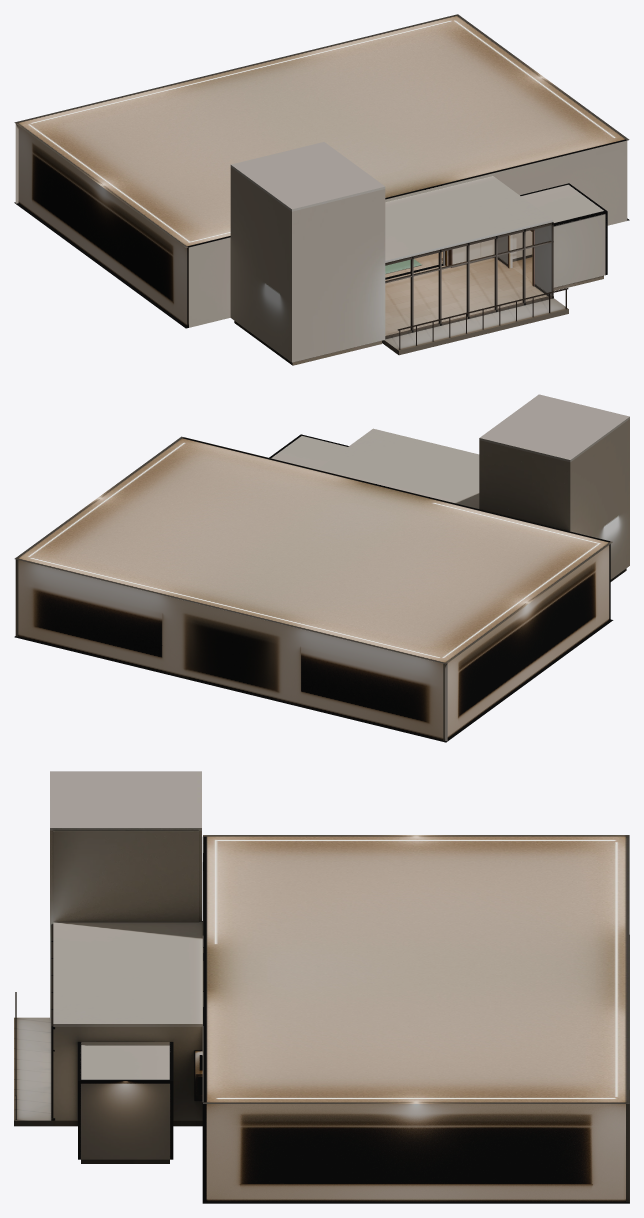
The model's file is hall-baked.glb.
3 renders of one model, top to bottom at view 1: azimuth 30°, elevation 25°; view 2: azimuth 150°, elevation 25°; view 3: azimuth 270°, elevation 25°, orthographic. The views are drawn at different scales.
Visible parts, largest first — view 1: baked-ceiling, baked-stair, baked-foyer, baked-walls, baked-floor; view 2: baked-ceiling, baked-walls, baked-stair, baked-foyer, baked-floor; view 3: baked-ceiling, baked-walls, baked-foyer, baked-stair, baked-floor.
Part boxes in pixels (left/top/right/bottom): baked-ceiling: left=14, top=14, right=629, bottom=247; baked-stair: left=230, top=142, right=385, bottom=365; baked-foyer: left=383, top=176, right=607, bottom=355; baked-walls: left=14, top=124, right=628, bottom=328; baked-floor: left=14, top=202, right=629, bottom=343; baked-ceiling: left=14, top=436, right=612, bottom=664; baked-walls: left=15, top=437, right=612, bottom=742; baked-stair: left=479, top=394, right=629, bottom=581; baked-foyer: left=269, top=428, right=479, bottom=508; baked-floor: left=14, top=619, right=612, bottom=742; baked-ceiling: left=203, top=835, right=629, bottom=1103; baked-walls: left=202, top=836, right=629, bottom=1203; baked-foyer: left=14, top=921, right=202, bottom=1163; baked-stair: left=50, top=771, right=201, bottom=1018; baked-floor: left=53, top=1120, right=629, bottom=1203.
Bounding box in the file's own units: 24.32 × 8.26 × 23.52.
7 materials, 7 textured.
